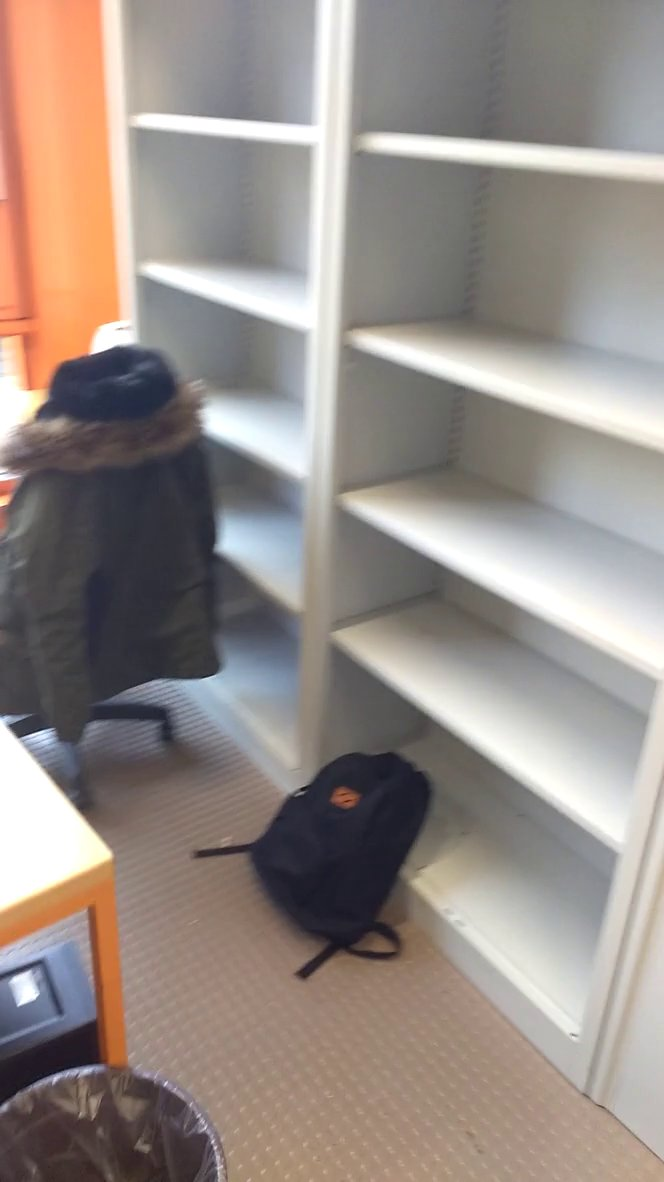bag: (242, 742, 442, 967)
